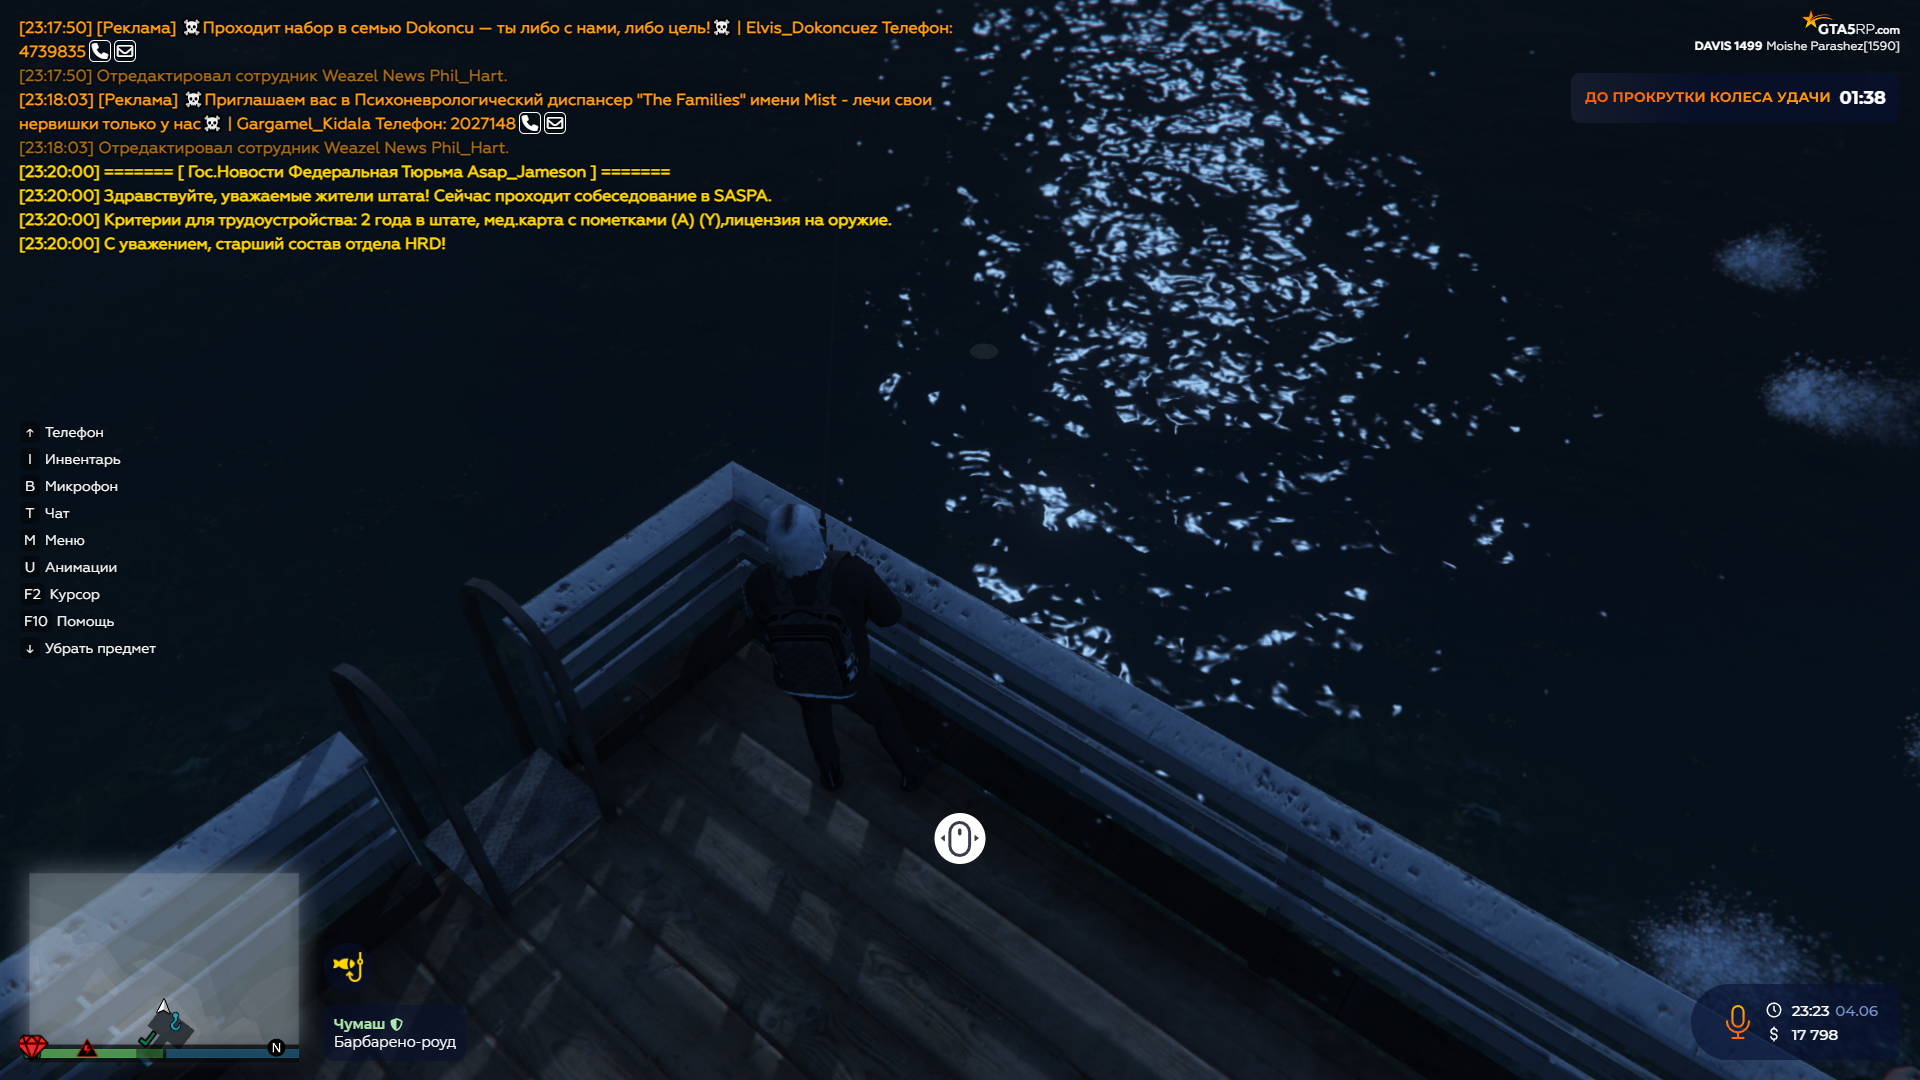circle: (971, 342, 1000, 359)
